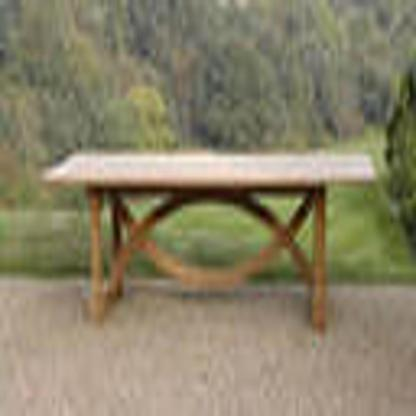Table: (34, 139, 381, 342)
